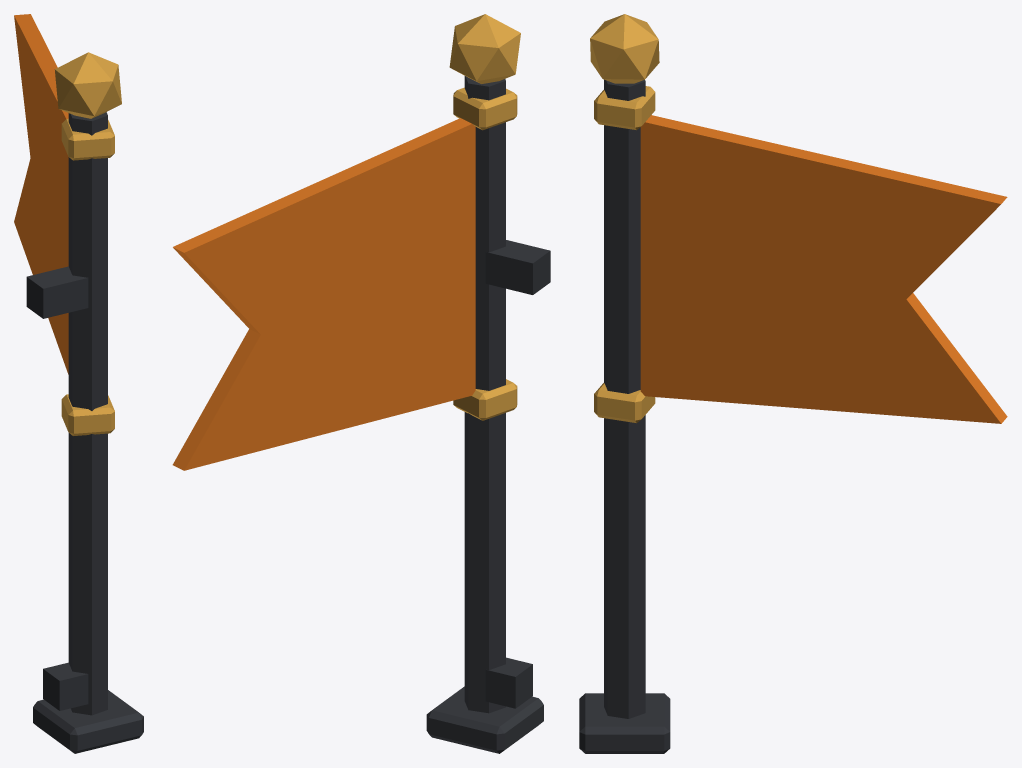
The model's file is MortarKit7.obj.
3 views of the same model, side by side, from view 1: azimuth 30°, elevation 25°; view 2: azimuth 150°, elevation 25°; view 3: azimuth 270°, elevation 25° (orthographic). The views are drawn at different scales.
Parts seen in each view (by area): view 1: MortarKit7; view 2: MortarKit7; view 3: MortarKit7.
Boxes of the visible parts, x1,y1,x2,y2 form: MortarKit7: [14, 14, 143, 753]; MortarKit7: [172, 14, 550, 753]; MortarKit7: [579, 14, 1007, 753].
Bounding box in the file's own units: 0.2103 × 0.79 × 0.424.
